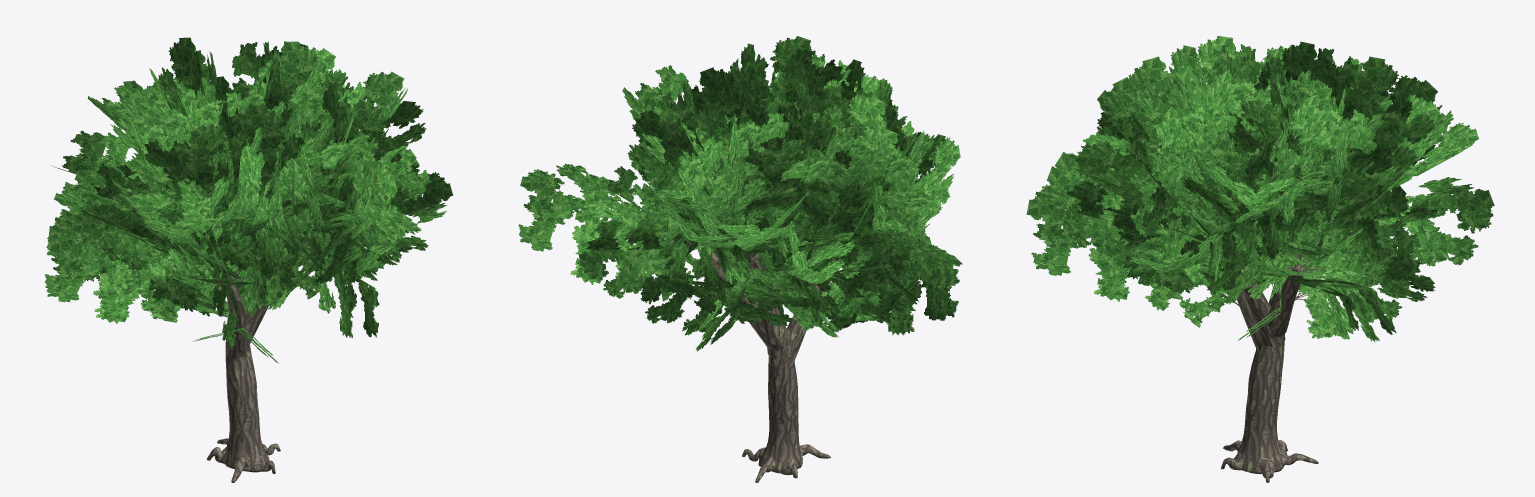
The model's file is environment_elm2_v56.fbx.
3 renders of one model, left to right at view 1: azimuth 30°, elevation 25°; view 2: azimuth 150°, elevation 25°; view 3: azimuth 270°, elevation 25°, orthographic. The views are drawn at different scales.
Parts seen in each view (by area): view 1: environment_elm2_v56_lod0; view 2: environment_elm2_v56_lod0; view 3: environment_elm2_v56_lod0.
Part boxes in pixels (x1,y1,x2,y2): environment_elm2_v56_lod0: (44, 37, 453, 482); environment_elm2_v56_lod0: (518, 36, 962, 482); environment_elm2_v56_lod0: (1026, 36, 1494, 482).
Size of what is drawn, in the model's own units: 2800 by 2432 by 2650.
Materials: 2 (2 with a texture image).
